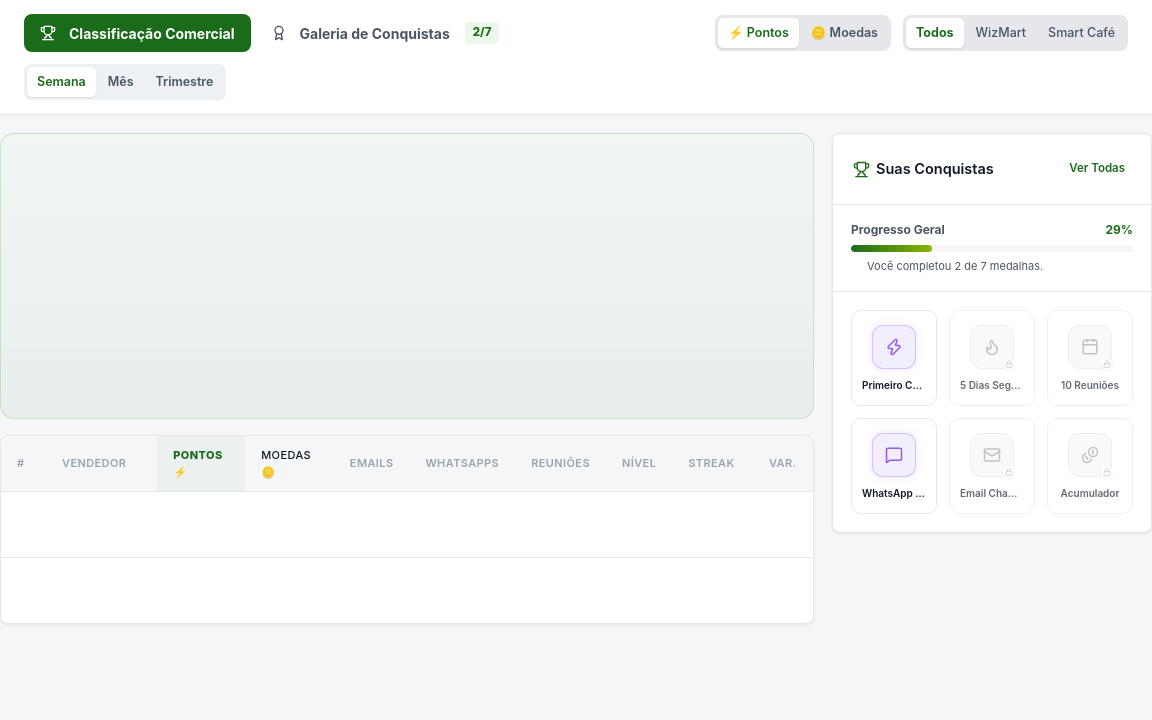
Scenario: LeaderboardPage - Visual e Interações › deve exibir a aba de Galeria de Conquistas e calcular os progressos
The width and height of the screenshot is (1152, 720).
Note: Clica na aba Galeria de Conquistas
What coordinates should you click on to do the following:
click the button "Galeria de Conquistas 2/7"
I would click on:
 (385, 33)
Its box is [254,14,516,52].
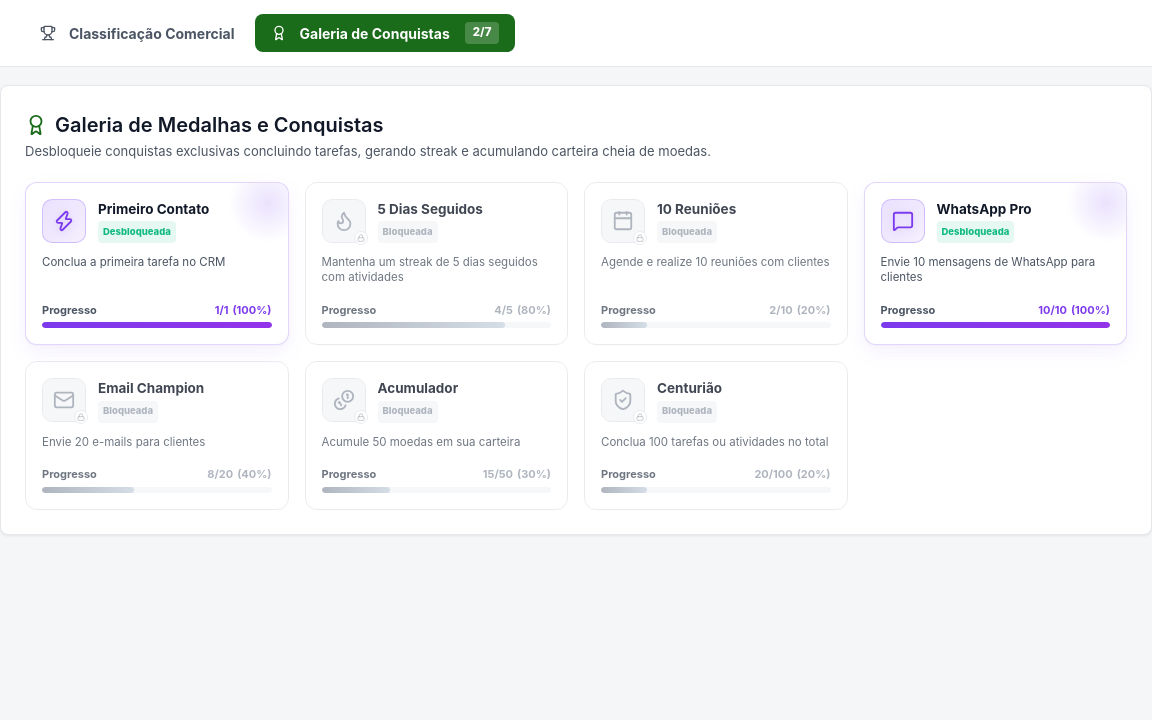
Expected: the text "Primeiro Contato" is shown, [98,198,209,219]
Expected: the text "5 Dias Seguidos" is shown, [378,198,483,219]
Expected: the text "4/5" is shown, [494,303,513,317]
